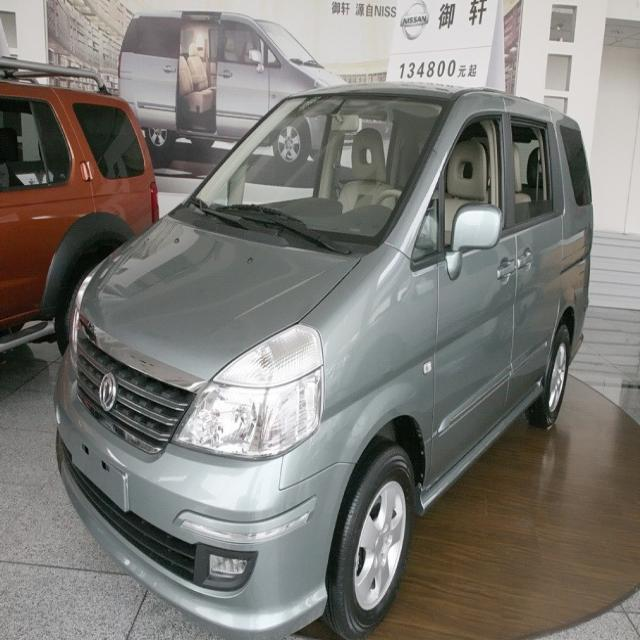door: (504, 99, 560, 395)
front_bumper: (50, 346, 355, 639)
front_glass: (195, 93, 449, 249)
front_left_side_door: (427, 89, 519, 499)
front_left_side_light: (168, 318, 325, 464)
front_left_side_mirror: (442, 202, 505, 281)
front_right_side_light: (69, 286, 91, 369)
wheel: (319, 446, 417, 639), (529, 328, 571, 431)
